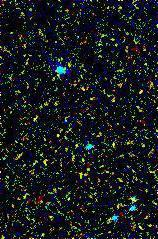star: (38, 123, 68, 153)
